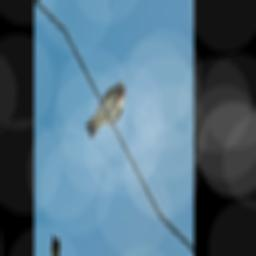Swallow: (83, 56, 129, 162)
